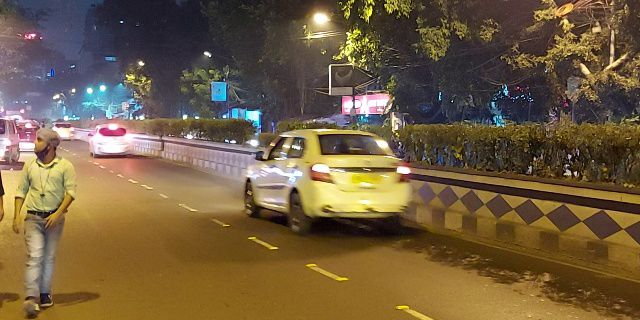Car: (242, 122, 417, 225), (87, 122, 137, 160)
